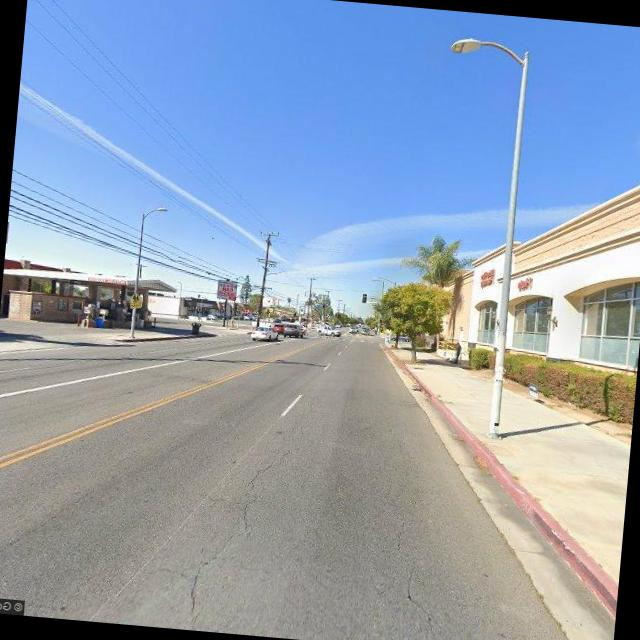crack: (162, 405, 292, 616), (387, 503, 457, 640)
